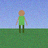person: (16, 10, 27, 33)
